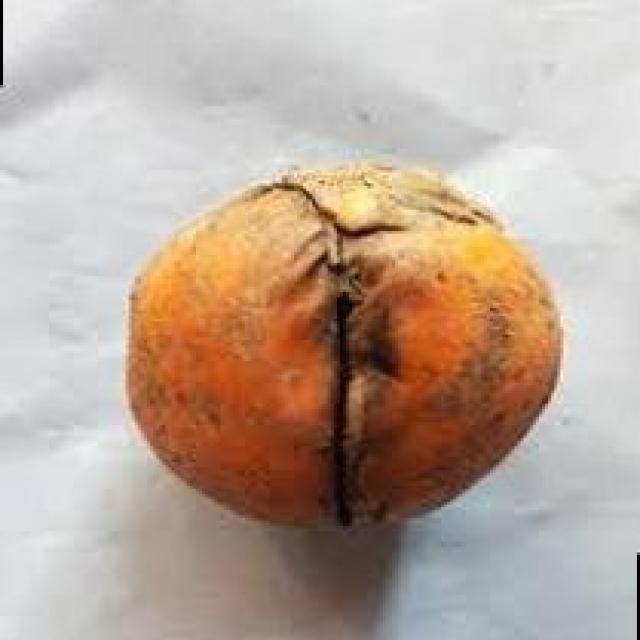damaged: (126, 167, 560, 523)
